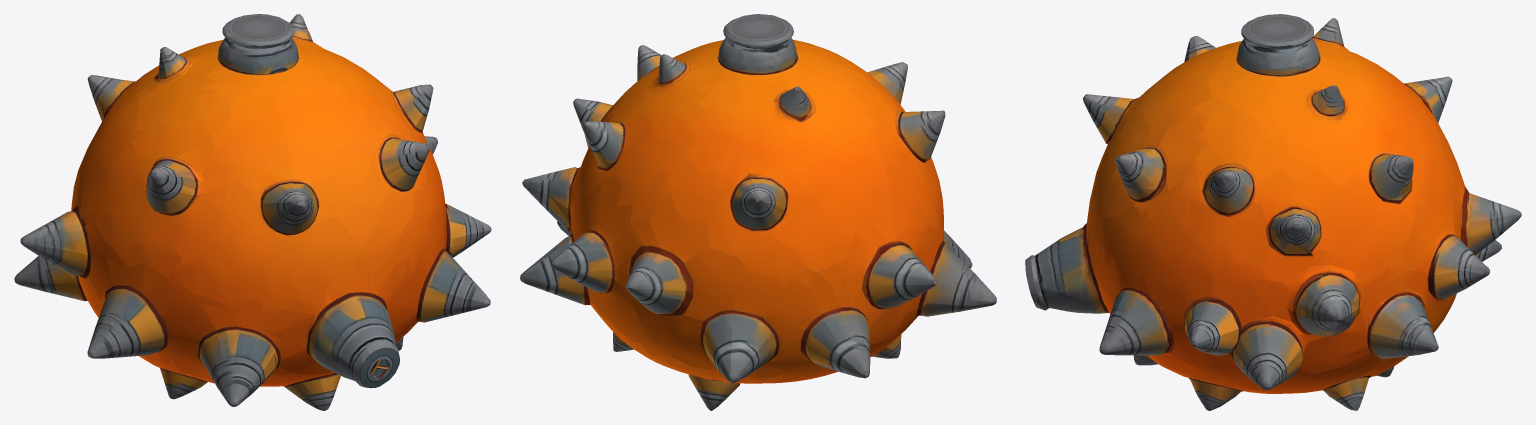
The model's file is wrecking-ball.glb.
3 views of the same model, side by side, from view 1: azimuth 30°, elevation 25°; view 2: azimuth 150°, elevation 25°; view 3: azimuth 270°, elevation 25° (orthographic). The views are drawn at different scales.
Parts seen in each view (by area): view 1: mesh_node; view 2: mesh_node; view 3: mesh_node.
Part boxes in pixels (x1,y1,x2,y2): mesh_node: (14, 14, 491, 410); mesh_node: (520, 14, 996, 410); mesh_node: (1025, 14, 1521, 410).
Bounding box in the file's own units: 1.88 × 1.48 × 1.9.
Materials: 1 (1 with a texture image).
